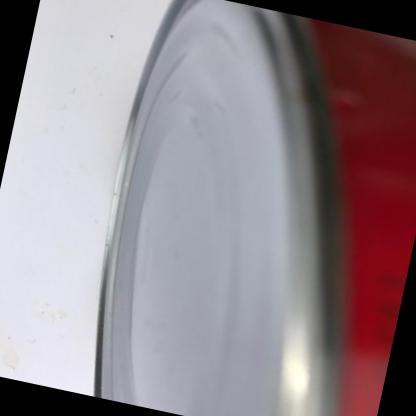Metal: (96, 0, 416, 416)
